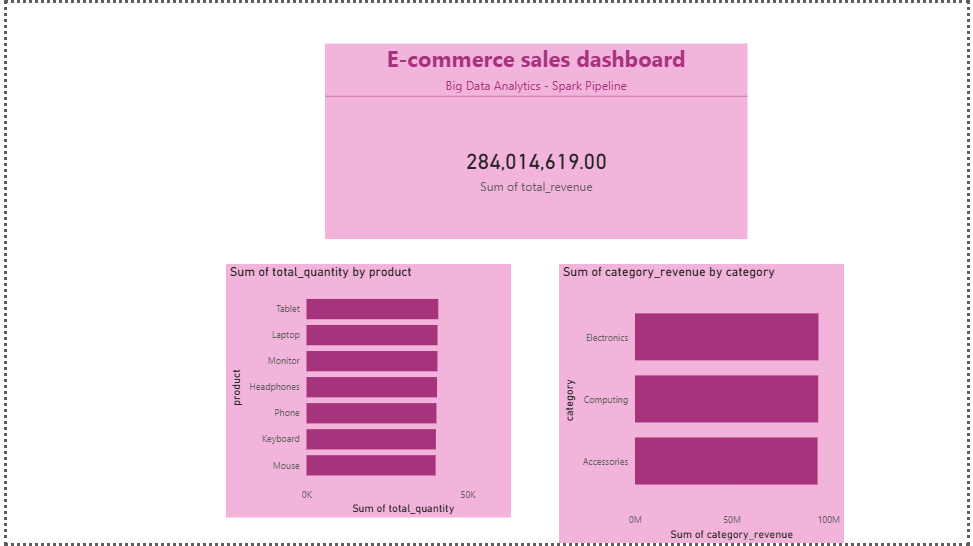

What the dashboard file says about the page in this screenshot:
{"tool":"powerbi","page":{"name":"Page 1","canvas":[1280,720],"ordinal":0},"visuals":[{"type":"clusteredBarChart","fields":{"Category":["part-00000-f8060f5c-92c9-4d09-844a-a446c91d29f5-c000.product"],"Y":["Sum(part-00000-f8060f5c-92c9-4d09-844a-a446c91d29f5-c000.total_quantity)"]},"box":[291,347.7,379.8,338.3],"z":0},{"type":"clusteredBarChart","fields":{"Category":["part-00000-80539611-4b0b-4a1c-919f-d5652332c8e0-c000.category"],"Y":["Sum(part-00000-80539611-4b0b-4a1c-919f-d5652332c8e0-c000.category_revenue)"]},"box":[735.1,347.7,379.8,372.3],"z":1000},{"type":"card","title":"E-commerce sales dashboard","fields":{"Values":["Sum(part-00000-39dbaa35-f8d6-4139-acd9-8904fcaf1a93-c000 (3).total_revenue)"]},"box":[423.3,54.8,563.2,260.8],"z":2000}]}

Visuals, with their boxes in screenshot pixels (x1, y1, x2, y2), scaled from the page's 1280x720 canvas onto the 973x546 screenshot:
clusteredBarChart - part-00000-f8060f5c-92c9-4d09-844a-a446c91d29f5-c000.product x Sum(part-00000-f8060f5c-92c9-4d09-844a-a446c91d29f5-c000.total_quantity): (x1=221, y1=264, x2=510, y2=520)
clusteredBarChart - part-00000-80539611-4b0b-4a1c-919f-d5652332c8e0-c000.category x Sum(part-00000-80539611-4b0b-4a1c-919f-d5652332c8e0-c000.category_revenue): (x1=559, y1=264, x2=847, y2=545)
"E-commerce sales dashboard" card: (x1=322, y1=42, x2=750, y2=239)
